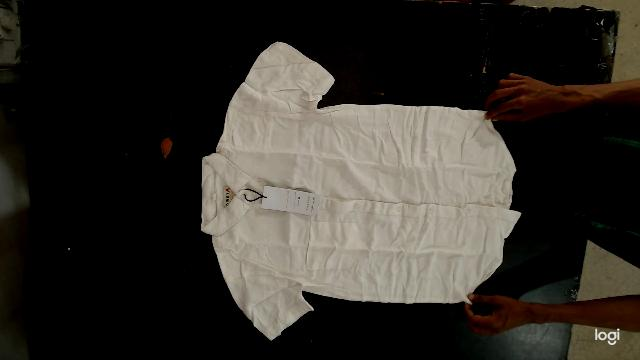new-garment: (201, 42, 520, 339)
